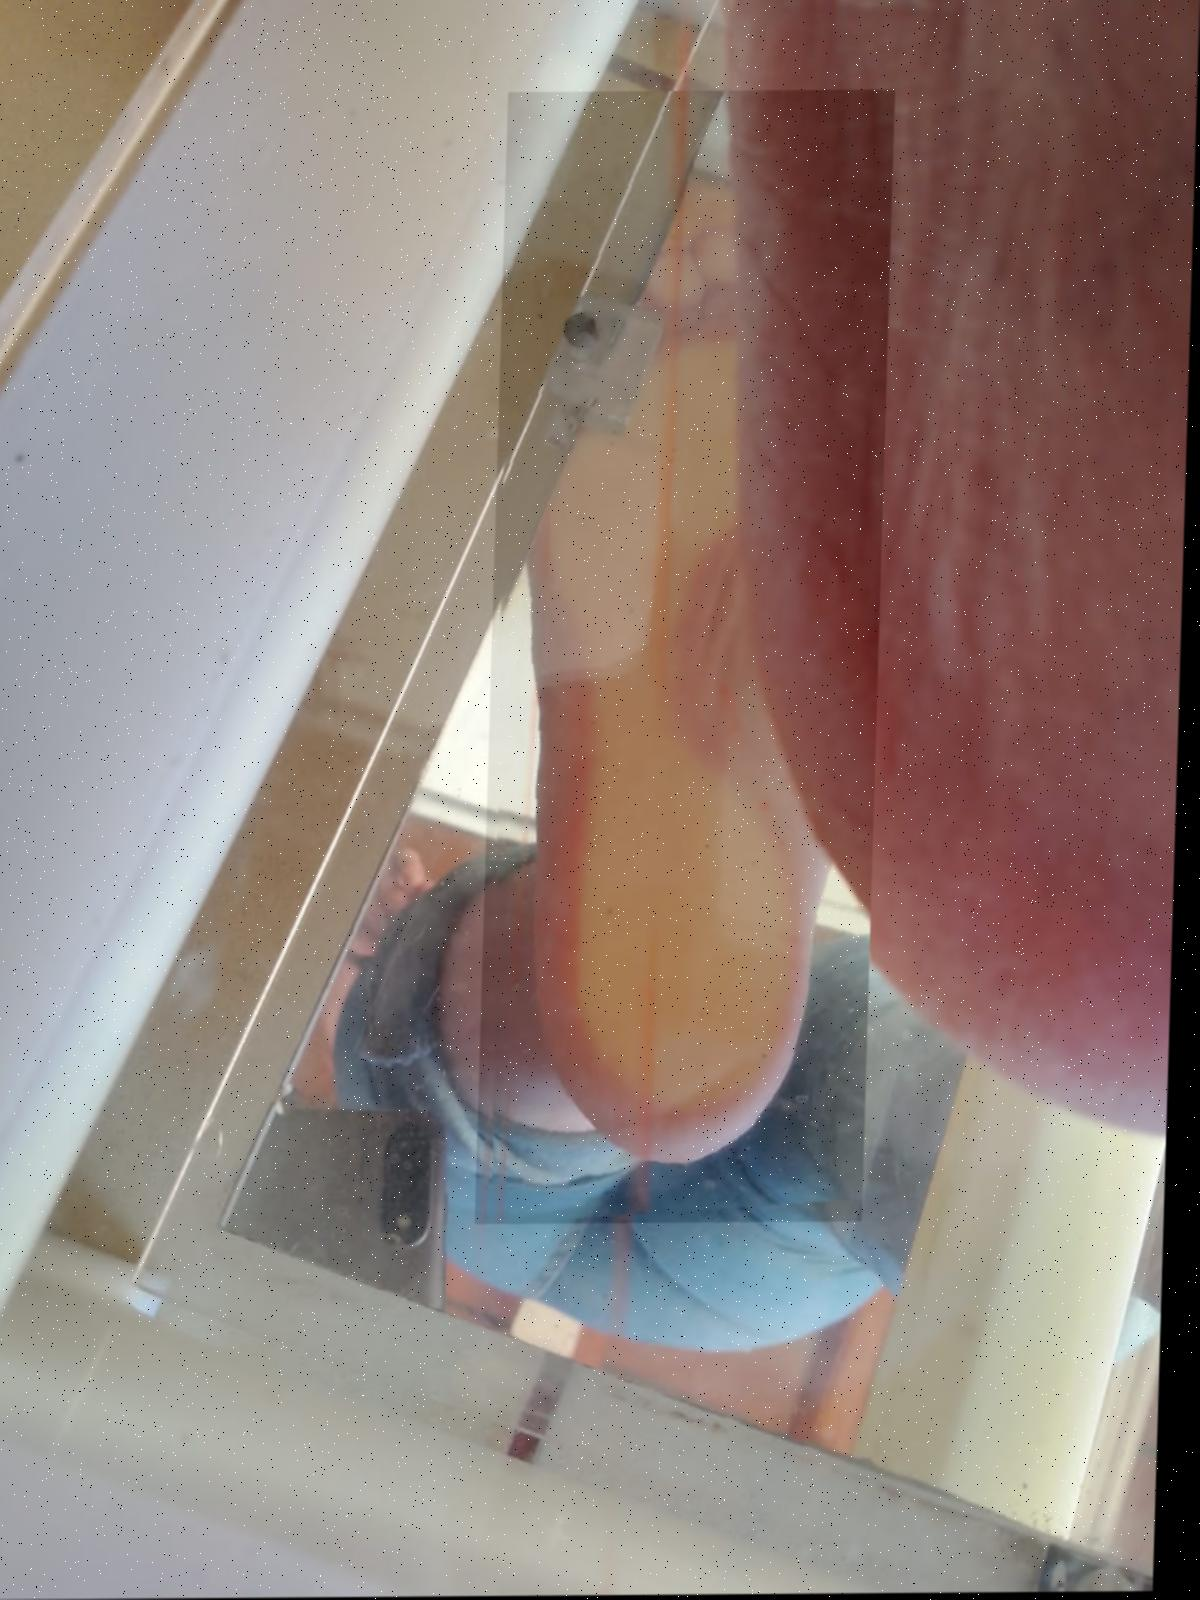Present: (483, 91, 896, 1226)
